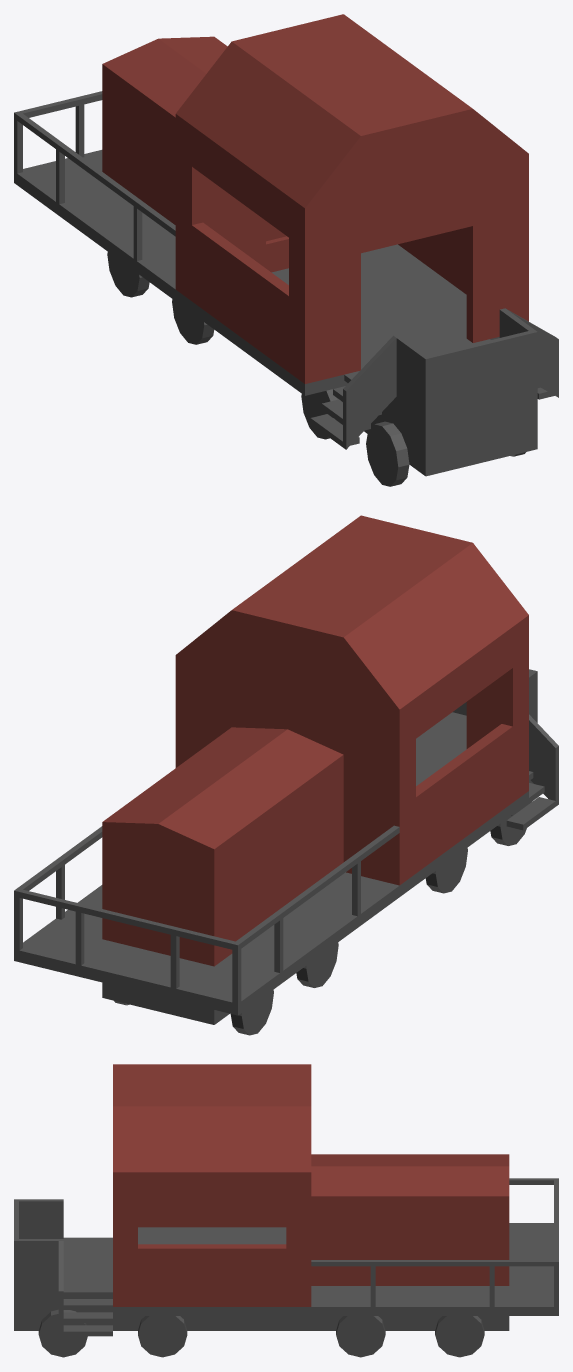
Rendered from Train.fbx.
3 views of the same model, one above another, from view 1: azimuth 30°, elevation 25°; view 2: azimuth 150°, elevation 25°; view 3: azimuth 270°, elevation 25° (orthographic). The views are drawn at different scales.
Visible parts, largest first — view 1: Cube; view 2: Cube; view 3: Cube.
Boxes of the visible parts, x1,y1,x2,y2 form: Cube: [14, 14, 558, 486]; Cube: [14, 515, 558, 1035]; Cube: [14, 1064, 558, 1357].
Size of the model in its own units: 4 by 5.5 by 11.
